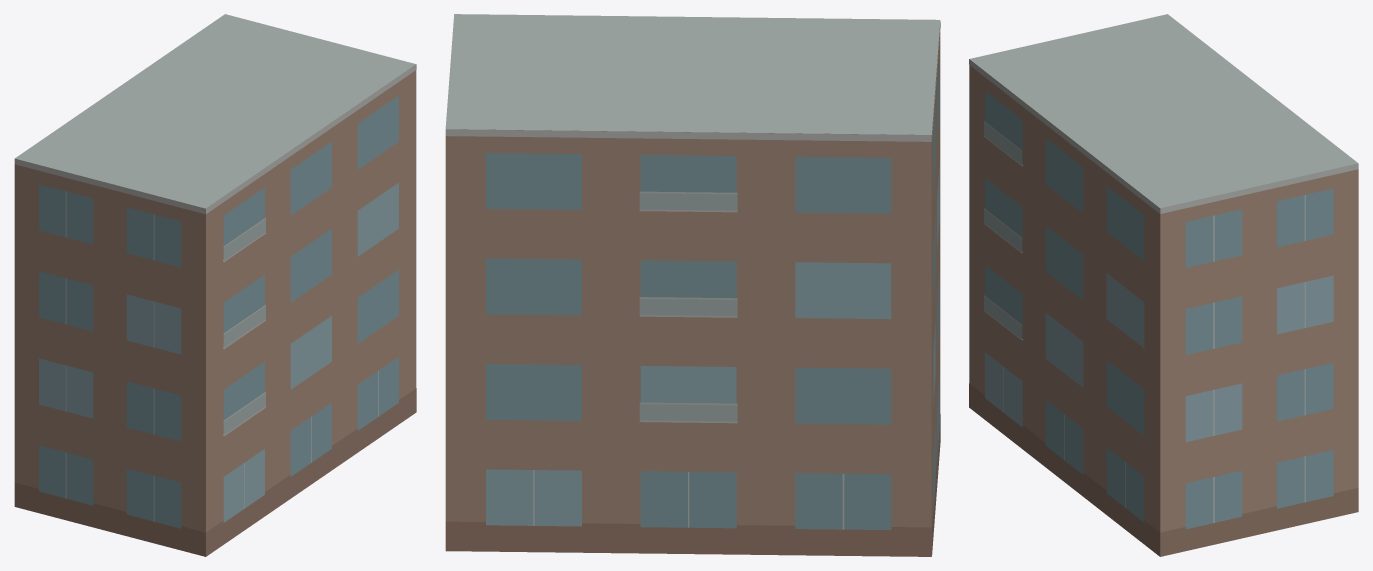
File: survey-upis-32923726.glb
The picture shows the model from 3 angles, left to right: view 1: azimuth 30°, elevation 25°; view 2: azimuth 150°, elevation 25°; view 3: azimuth 270°, elevation 25°; orthographic projection. The views are drawn at different scales.
Visible parts, largest first — view 1: survey-upis-32923726.tmp; view 2: survey-upis-32923726.tmp; view 3: survey-upis-32923726.tmp.
Boxes of the visible parts, x1,y1,x2,y2 form: survey-upis-32923726.tmp: (14, 14, 416, 556); survey-upis-32923726.tmp: (445, 14, 940, 556); survey-upis-32923726.tmp: (969, 14, 1358, 556).
Size of the model in its own units: 17.77 by 14.85 by 15.05.
